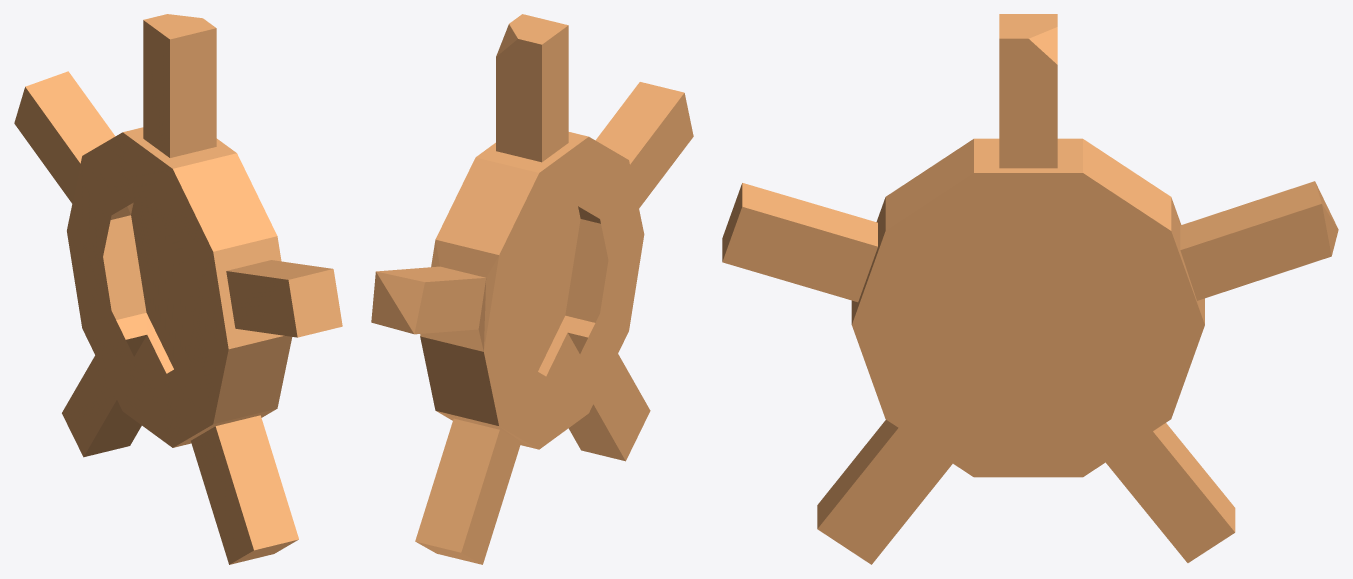
The model's file is charging_gear.fbx.
3 views of the same model, side by side, from view 1: azimuth 30°, elevation 25°; view 2: azimuth 150°, elevation 25°; view 3: azimuth 270°, elevation 25° (orthographic). The views are drawn at different scales.
Visible parts, largest first — view 1: charging_gear; view 2: charging_gear; view 3: charging_gear.
Part boxes in pixels (x1,y1,x2,y2): charging_gear: (14,14,342,564); charging_gear: (371,14,693,564); charging_gear: (722,14,1338,564).
Size of the model in its own units: 0.1034 by 0.7422 by 0.7873.
